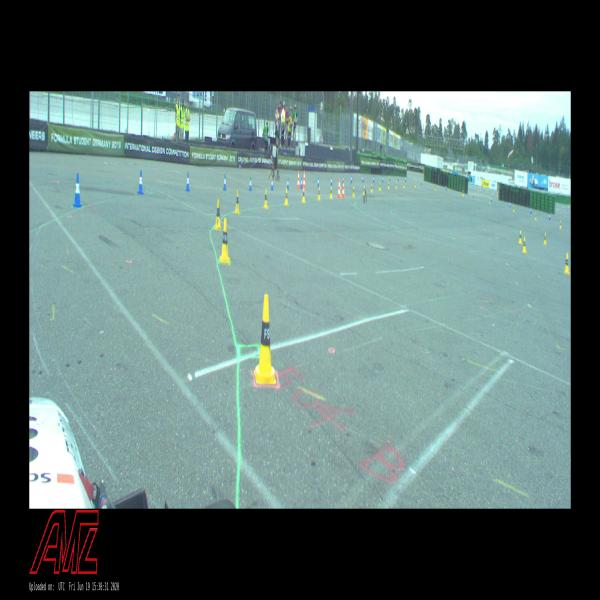blue_cone: (73, 174, 82, 208), (137, 169, 144, 194), (185, 172, 190, 192), (222, 174, 226, 190), (249, 177, 252, 191), (271, 178, 273, 190), (287, 178, 289, 189), (330, 176, 332, 186), (300, 178, 302, 188), (342, 175, 344, 184), (318, 178, 320, 186), (548, 213, 550, 220), (362, 175, 364, 182), (530, 208, 532, 214), (509, 202, 511, 208), (351, 176, 352, 184), (491, 195, 492, 202), (373, 176, 374, 182), (421, 178, 422, 184), (382, 176, 383, 182), (445, 184, 446, 190), (398, 176, 399, 182), (405, 176, 406, 182), (389, 175, 390, 180), (473, 193, 474, 198), (555, 202, 556, 206), (483, 187, 484, 191), (481, 186, 482, 190), (495, 191, 496, 194), (490, 188, 490, 192), (570, 206, 570, 209)
large_orange_cone: (297, 170, 300, 189), (342, 180, 345, 198), (338, 179, 340, 198), (303, 171, 305, 188)
orange_cone: (568, 206, 568, 209)
yellow_cone: (256, 294, 274, 384), (220, 218, 230, 263), (214, 199, 222, 230), (564, 253, 570, 275), (235, 190, 240, 214), (264, 189, 268, 208), (284, 188, 288, 205), (522, 237, 526, 252), (302, 188, 305, 202), (519, 230, 522, 243), (318, 186, 320, 200), (340, 185, 342, 198), (330, 186, 332, 198), (544, 233, 546, 244), (363, 185, 365, 194), (560, 220, 562, 228), (379, 182, 381, 190), (414, 181, 416, 188), (403, 181, 405, 188), (534, 213, 536, 220), (395, 182, 397, 188), (462, 191, 464, 196), (353, 186, 354, 196), (486, 184, 488, 189), (492, 189, 494, 194), (496, 193, 498, 198), (470, 183, 472, 187), (513, 205, 514, 212), (489, 198, 490, 204), (388, 182, 389, 188), (435, 184, 436, 189), (478, 187, 479, 192), (557, 202, 558, 206), (469, 183, 470, 187), (468, 183, 469, 187), (372, 184, 372, 192), (564, 206, 564, 210), (476, 183, 476, 188), (558, 207, 558, 210), (570, 202, 570, 206), (568, 204, 568, 206)
